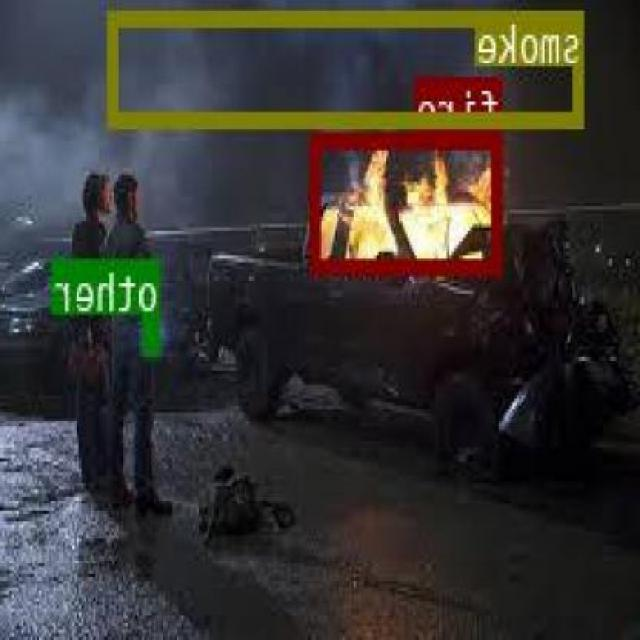Fire: (314, 130, 503, 272)
Smoke: (110, 10, 586, 124)
